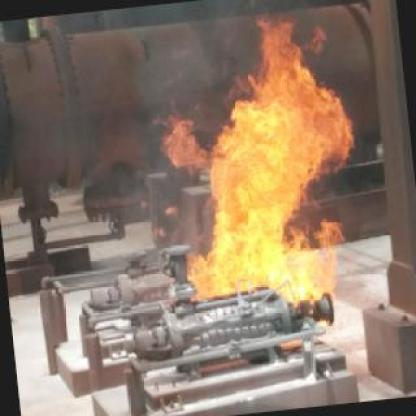Fire: (178, 18, 350, 310)
